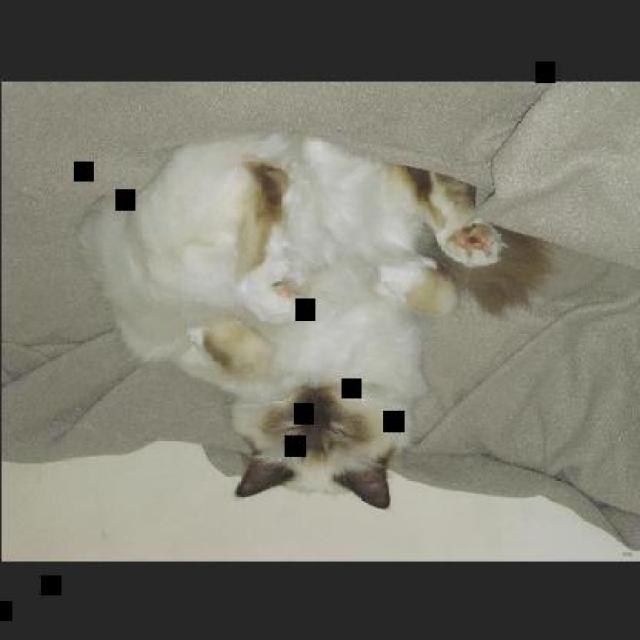unauthorized: (74, 128, 546, 508)
